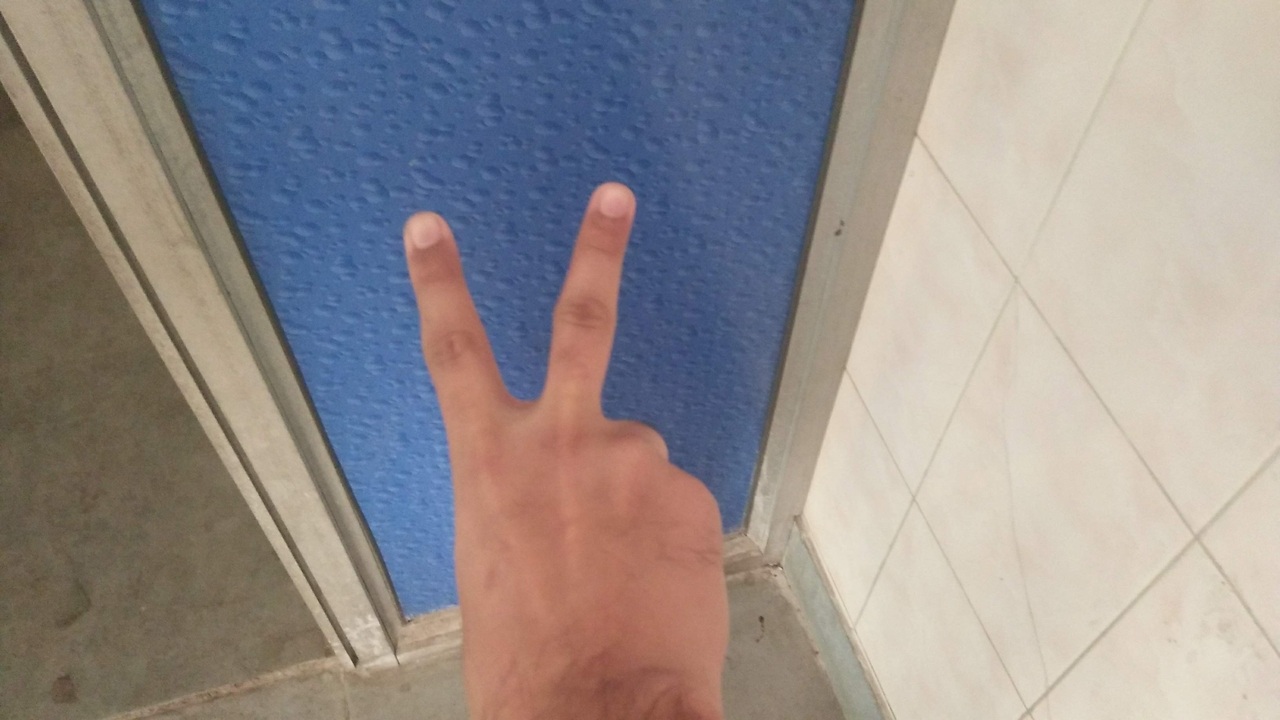fingertip: (388, 202, 462, 264), (572, 172, 642, 230)
